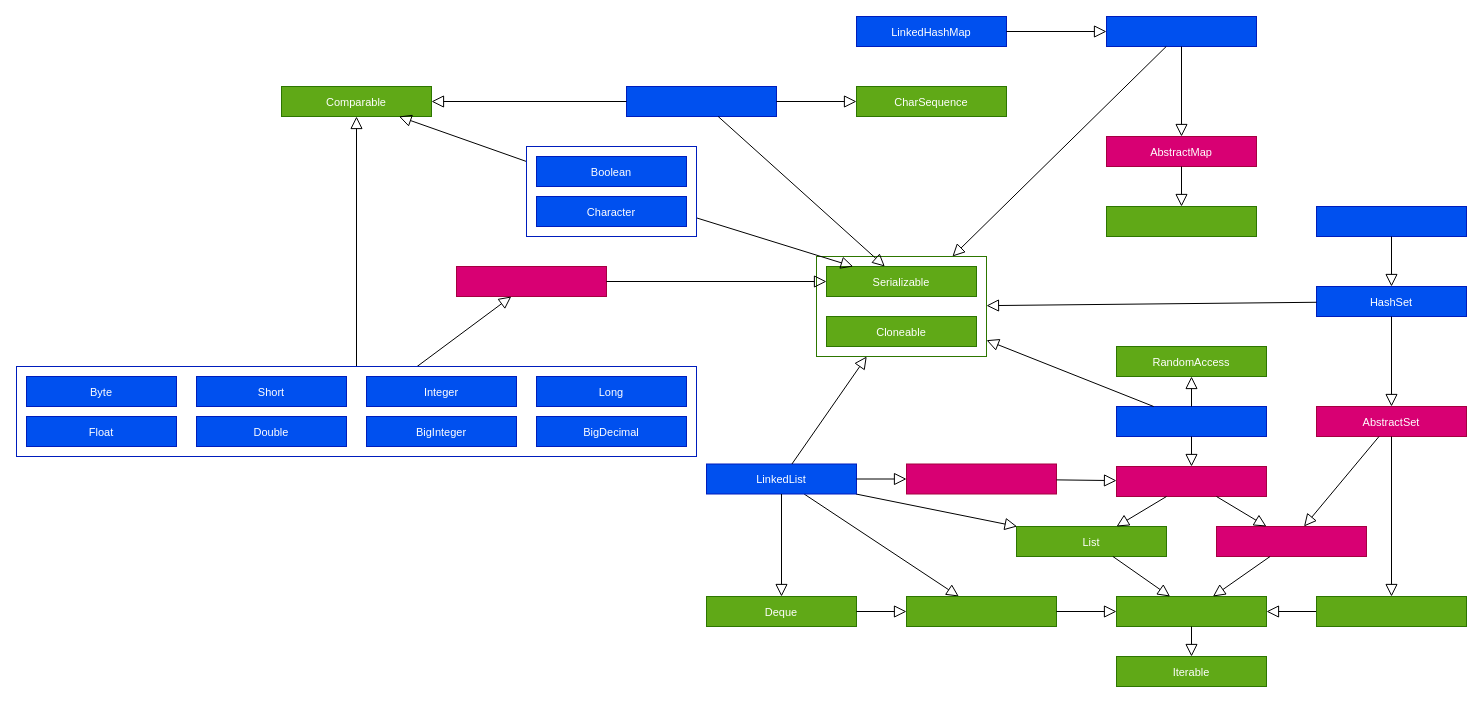
This 1483x703 diagram has some shape labels left out. The box of each missing label's shape, as (x1, y1, x2, y2) in pixels:
AbstractCollection: (1216, 526, 1366, 556)
AbstractList: (1116, 466, 1266, 496)
AbstractSequentialList: (906, 463, 1056, 494)
ArrayList: (1116, 406, 1266, 436)
Collection: (1116, 596, 1266, 626)
HashMap: (1106, 16, 1256, 46)
LinkedHashSet: (1316, 206, 1466, 236)
Map: (1106, 206, 1256, 236)
Number: (456, 266, 606, 296)
Queue: (906, 596, 1056, 626)
Set: (1316, 596, 1466, 626)
String: (626, 86, 776, 116)
